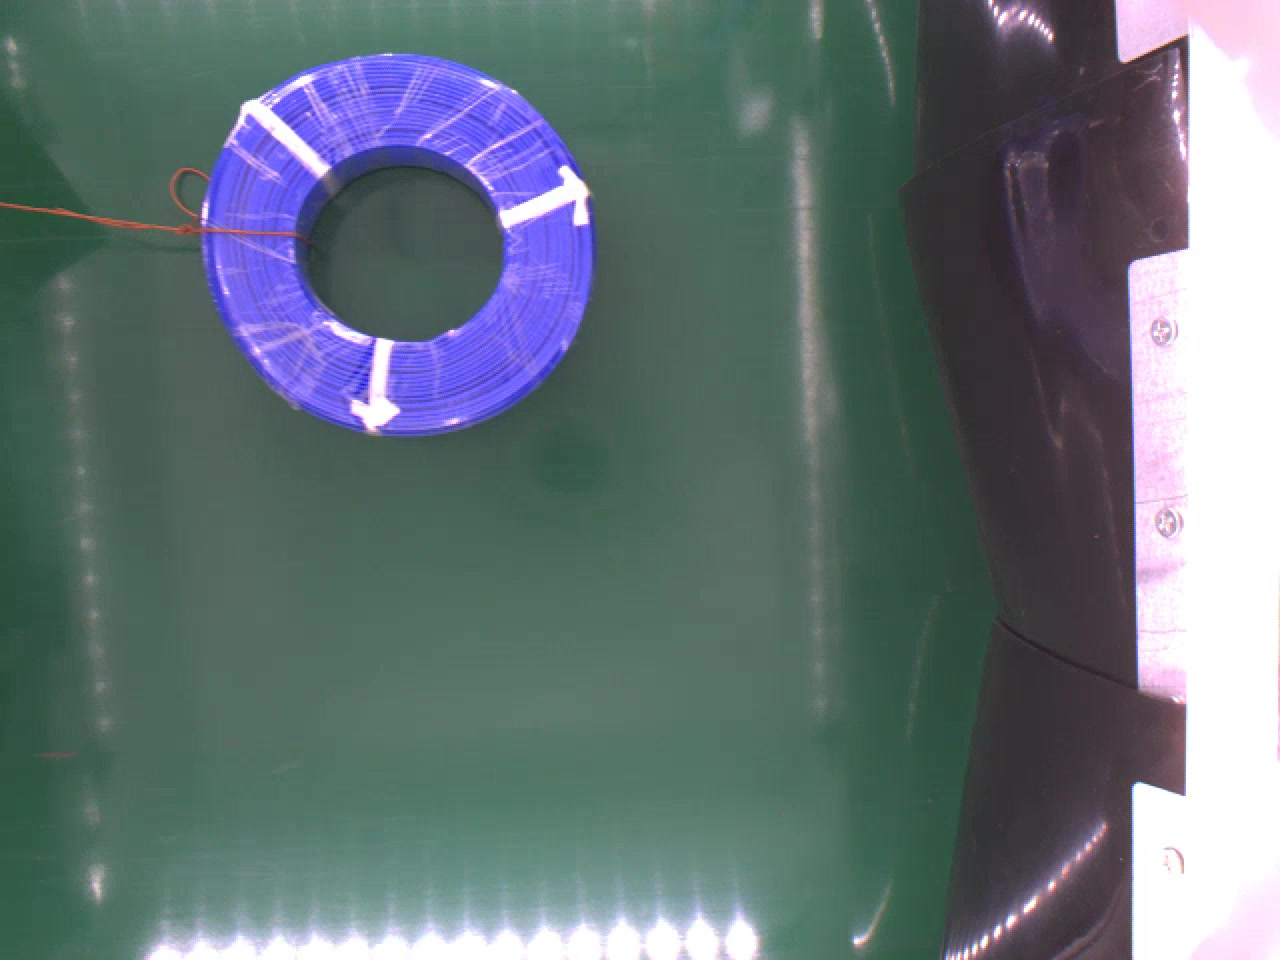blue: (205, 47, 603, 439)
